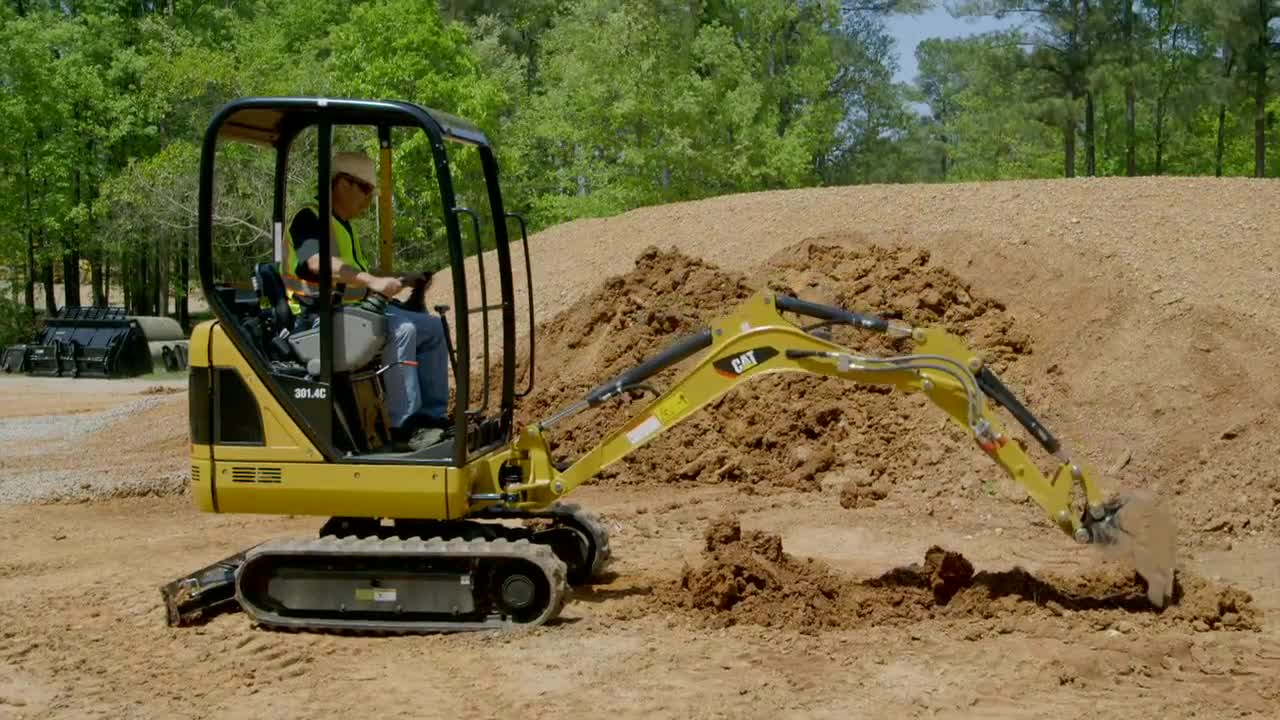attachment-bucket: (1077, 486, 1180, 612)
cabin: (181, 91, 531, 521)
forearm: (910, 327, 1089, 539)
upperarm: (544, 303, 926, 500)
wheelbase: (231, 502, 613, 639)
